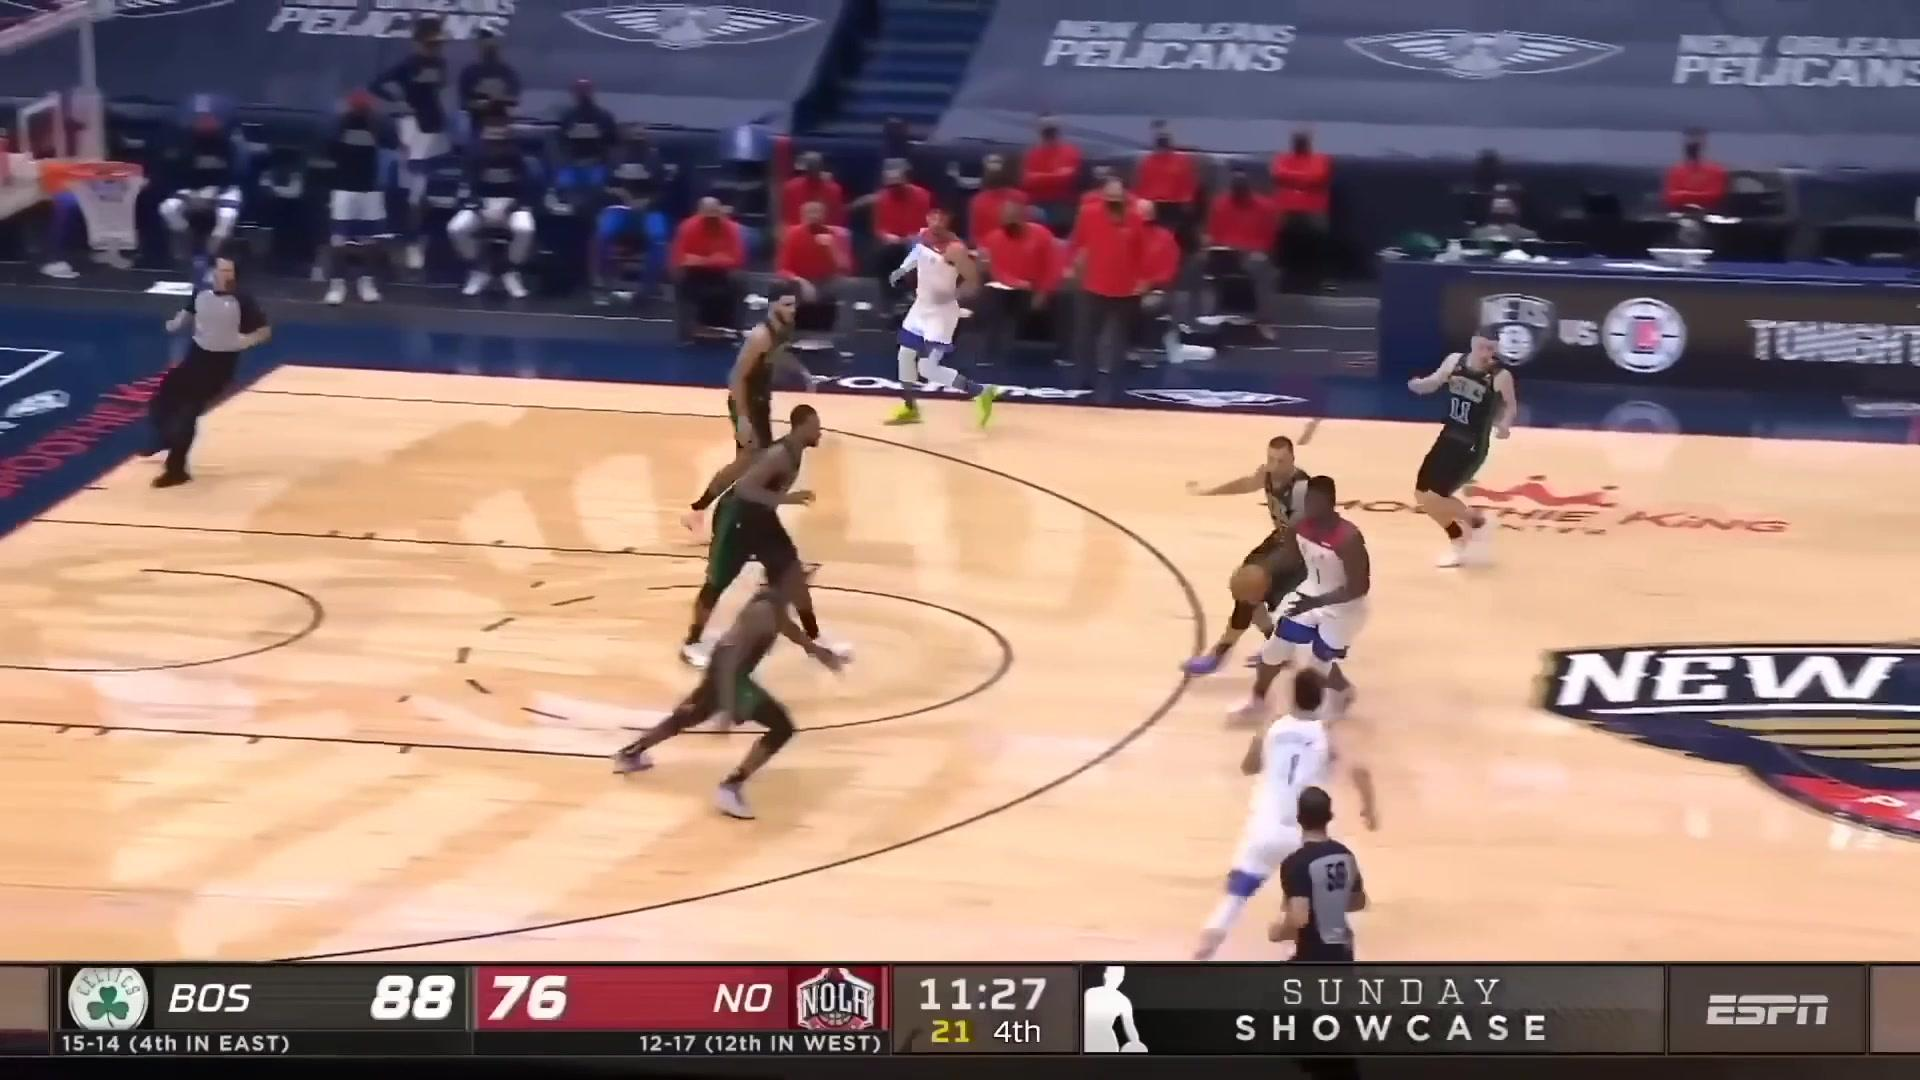no_foul: (1146, 418, 1406, 717)
